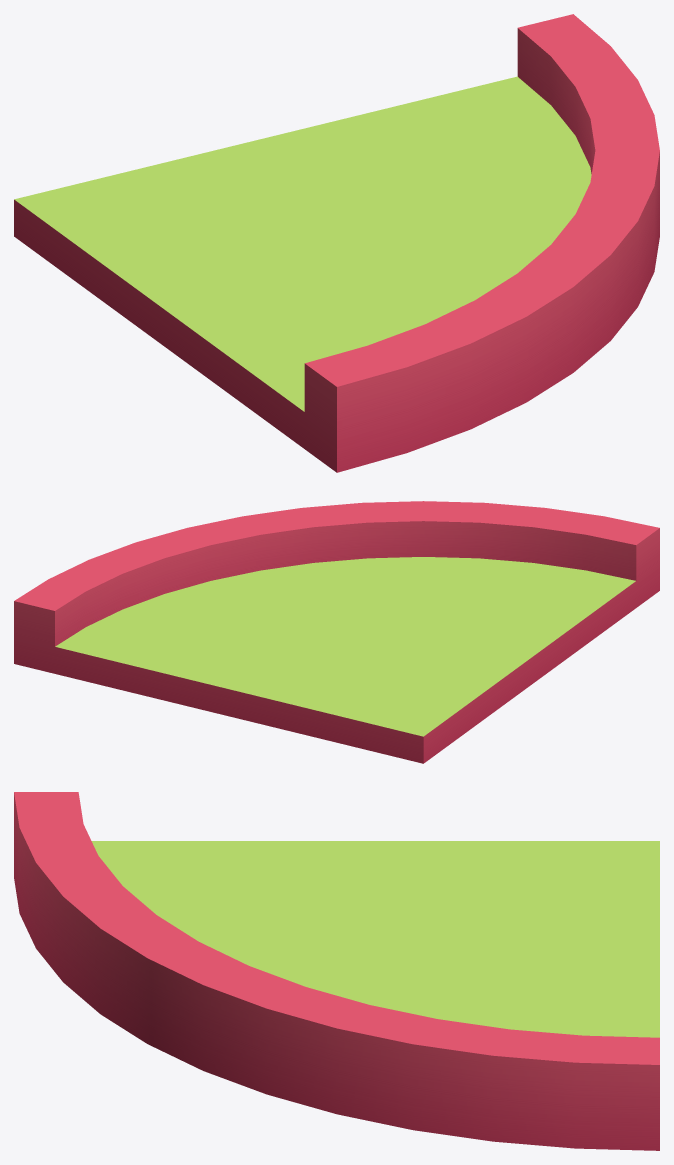
Rendered from round-corner-c.fbx.
The picture shows the model from 3 angles, top to bottom: view 1: azimuth 30°, elevation 25°; view 2: azimuth 150°, elevation 25°; view 3: azimuth 270°, elevation 25°; orthographic projection. The views are drawn at different scales.
Parts seen in each view (by area): view 1: round_corner_c; view 2: round_corner_c; view 3: round_corner_c.
Part boxes in pixels (bbox=[...]): round_corner_c: bbox=[14, 14, 659, 472]; round_corner_c: bbox=[14, 501, 659, 763]; round_corner_c: bbox=[14, 792, 659, 1150].
Size of the model in its own units: 99.99 by 14.67 by 99.99.
Materials: 1 (1 with a texture image).
